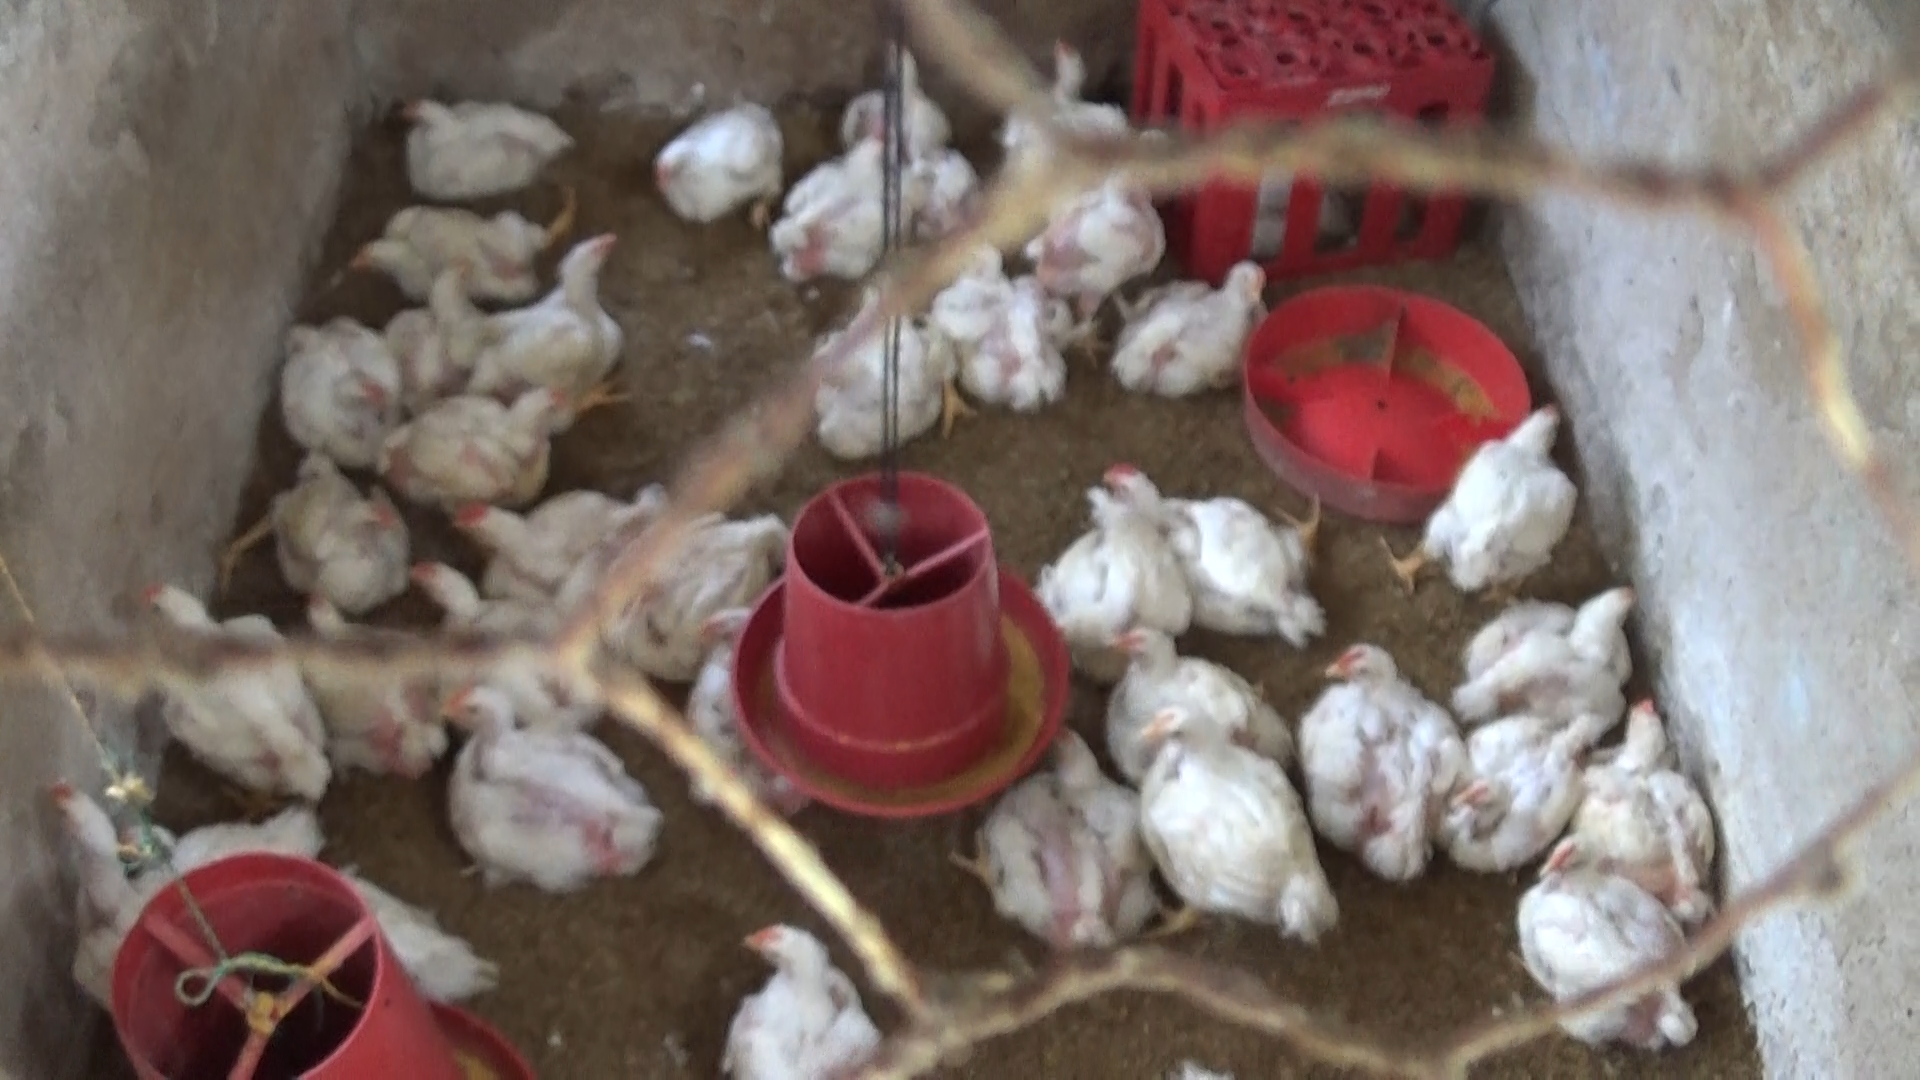Pollos: (431, 667, 671, 884), (1127, 702, 1350, 932), (1513, 818, 1712, 1058), (960, 721, 1168, 948), (1110, 443, 1345, 633), (1296, 640, 1468, 880), (1382, 392, 1592, 585), (1582, 680, 1746, 920), (40, 775, 328, 909), (132, 578, 326, 775), (1437, 558, 1665, 721), (1095, 617, 1298, 781), (372, 372, 600, 513), (1443, 705, 1613, 882), (709, 911, 887, 1079), (476, 222, 637, 396), (1098, 258, 1280, 411), (444, 479, 671, 597), (806, 284, 971, 440), (940, 241, 1076, 419), (252, 443, 415, 589), (342, 196, 556, 307), (1051, 488, 1189, 653), (773, 128, 902, 293), (644, 96, 789, 232), (385, 88, 576, 191), (277, 309, 401, 463), (376, 251, 498, 386), (385, 558, 551, 649)
